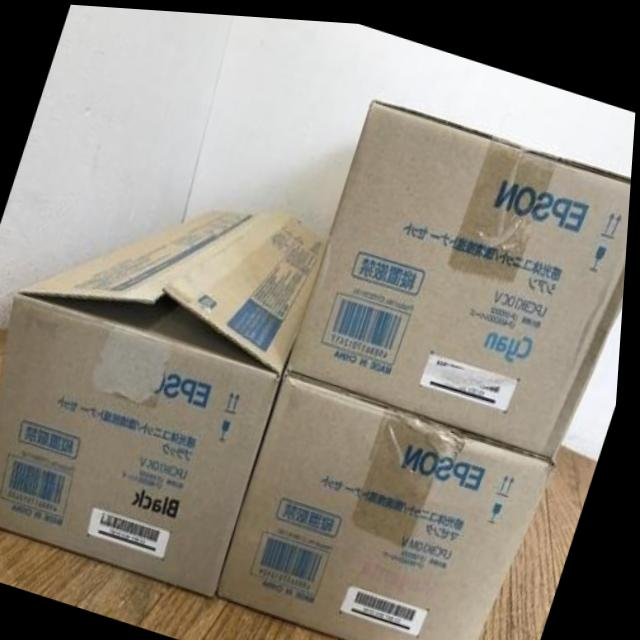box: (0, 196, 330, 593), (290, 95, 633, 455), (223, 367, 563, 640)
